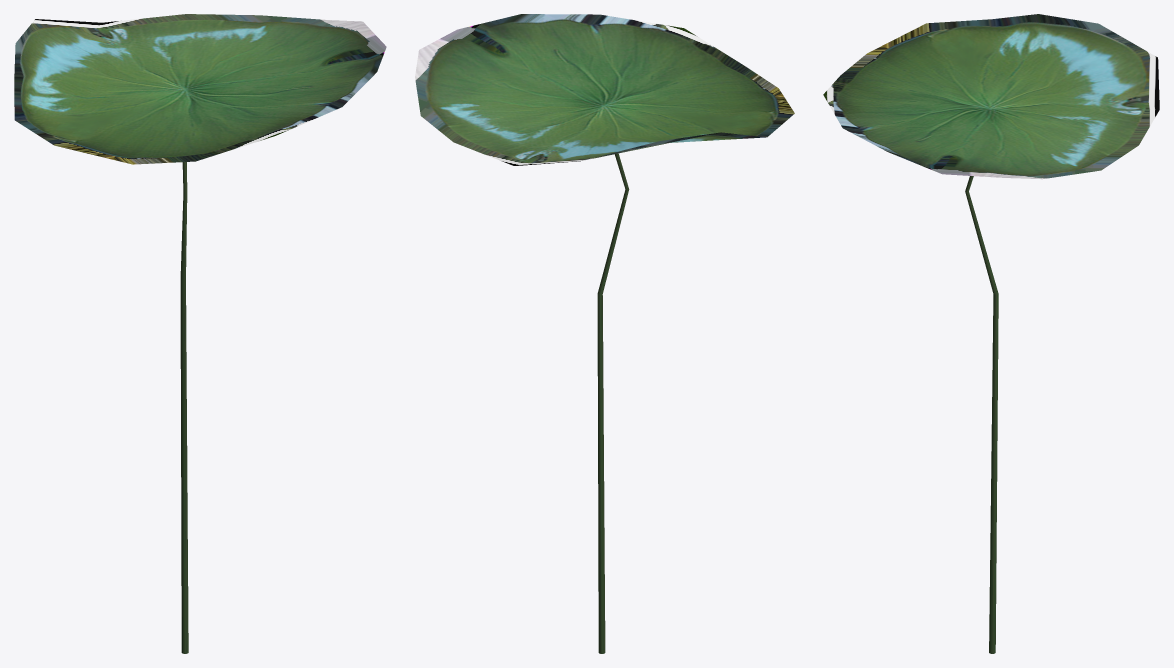
The model's file is pond_leaf01.glb.
3 views of the same model, side by side, from view 1: azimuth 30°, elevation 25°; view 2: azimuth 150°, elevation 25°; view 3: azimuth 270°, elevation 25° (orthographic). The views are drawn at different scales.
Parts seen in each view (by area): view 1: leaf_01_Plants_0; view 2: leaf_01_Plants_0; view 3: leaf_01_Plants_0.
Part boxes in pixels (x1,y1,x2,y2): leaf_01_Plants_0: [14, 14, 386, 653]; leaf_01_Plants_0: [415, 14, 794, 653]; leaf_01_Plants_0: [823, 14, 1159, 653].
Size of the model in its own units: 0.5571 by 0.897 by 0.4758.
1 material, 1 textured.
